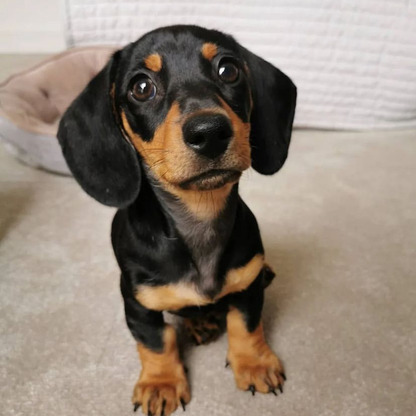dachshund: (61, 20, 344, 388)
